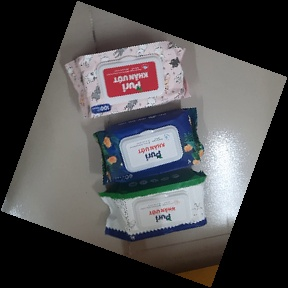Puri Trang: (94, 166, 210, 244)
Puri Xanh: (91, 106, 206, 185)
Puri hong: (61, 39, 192, 120)
